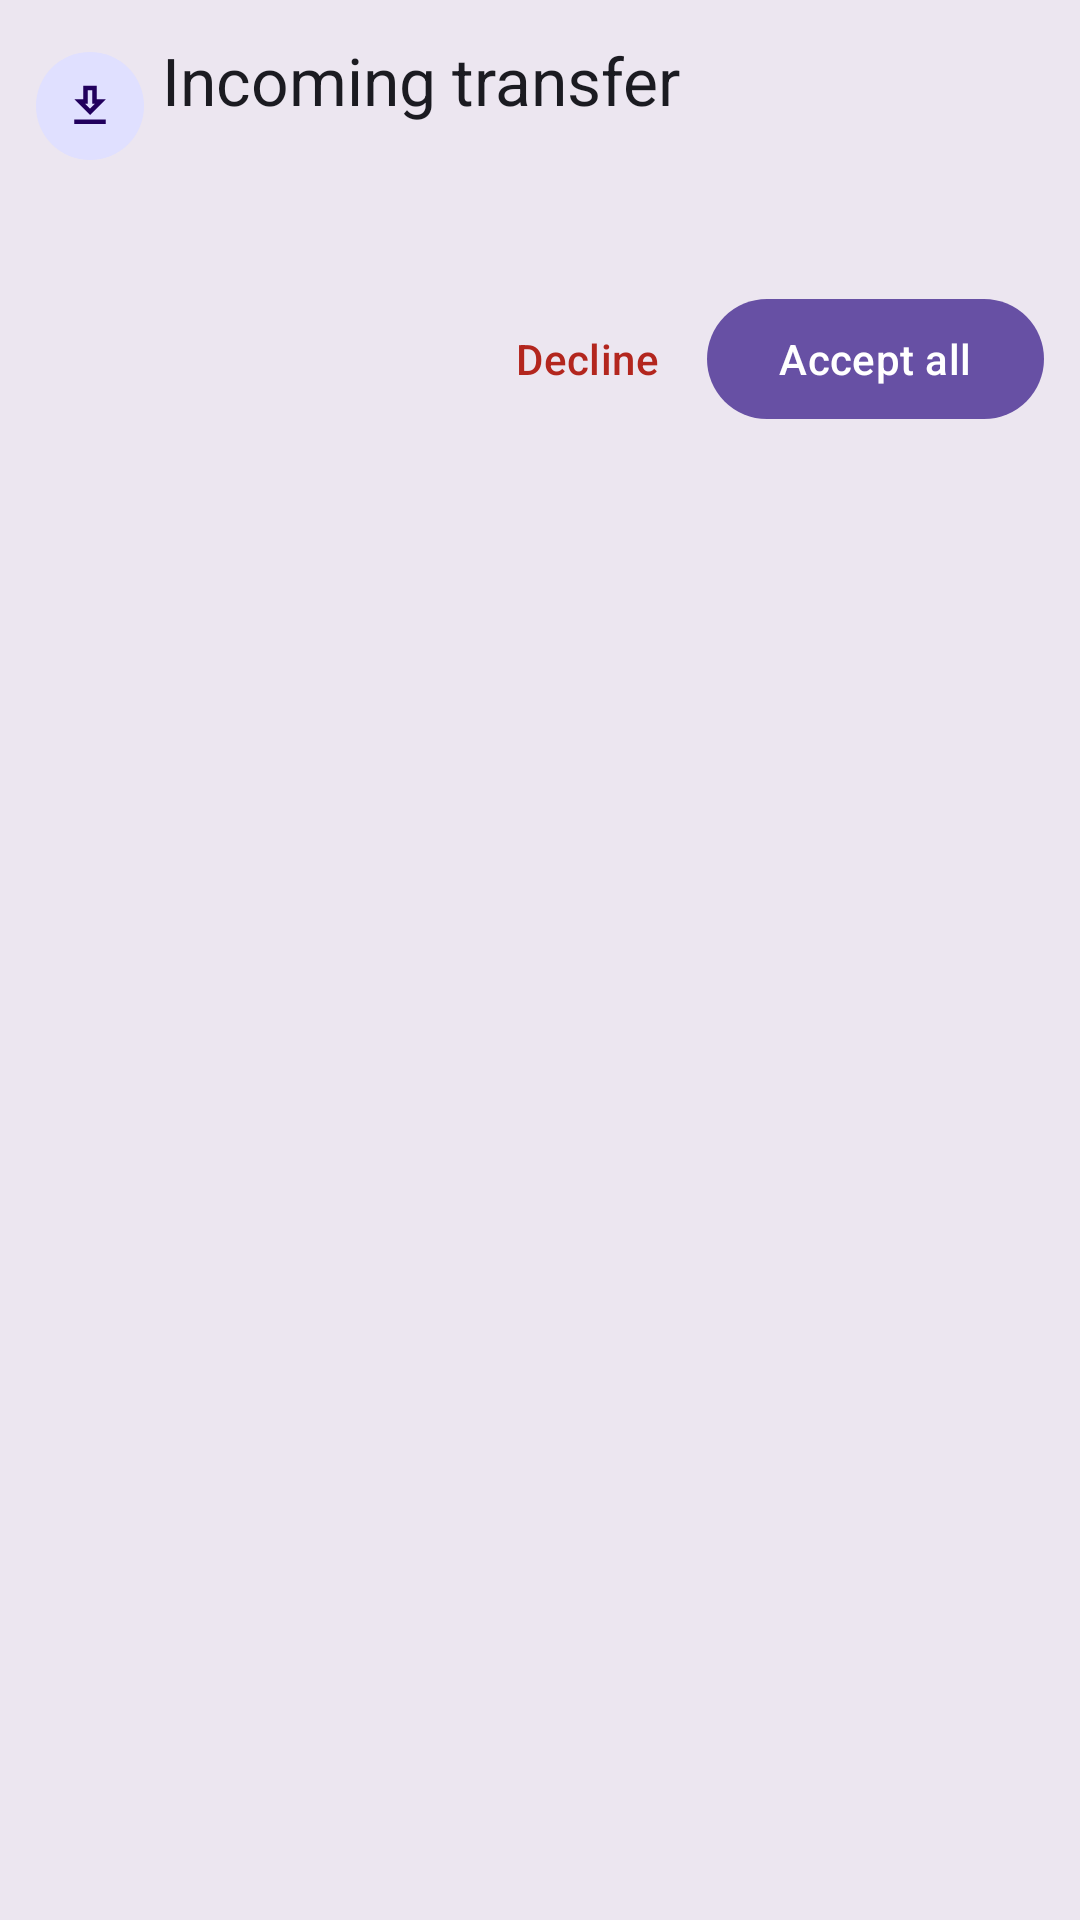

Screen size 1080*1920. Icon name, then its center in pixels as (x,y):
receive: (90,104)
